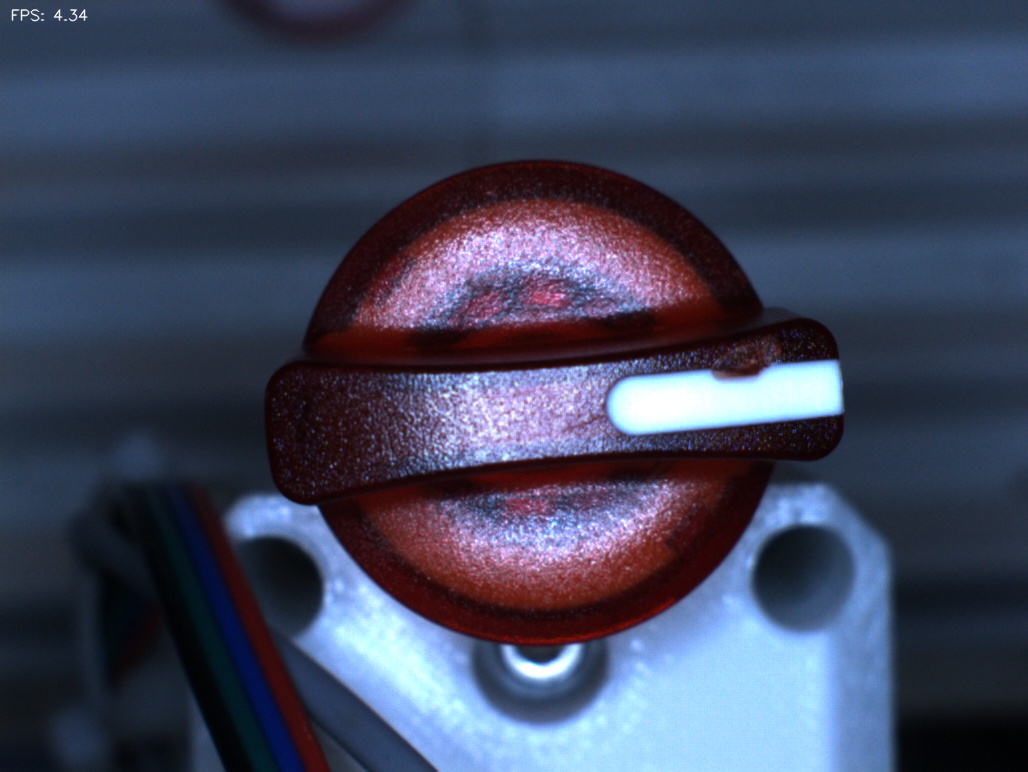Choc: (698, 312, 795, 409)
